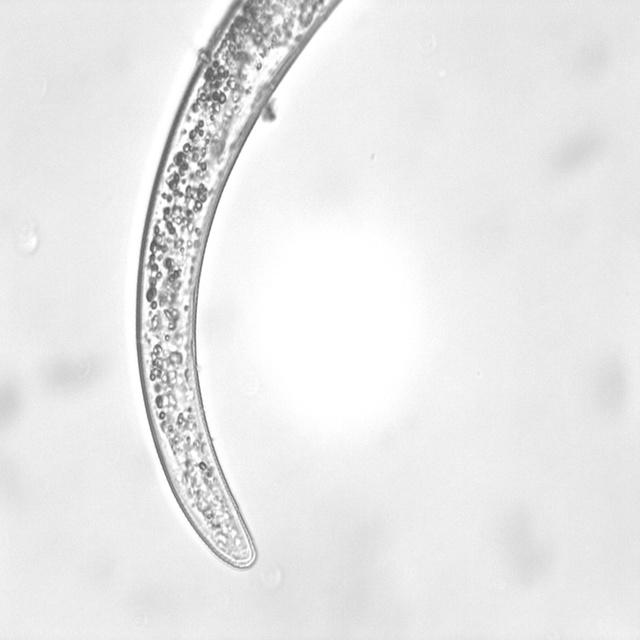Helicotylenchus: (131, 0, 353, 574)
